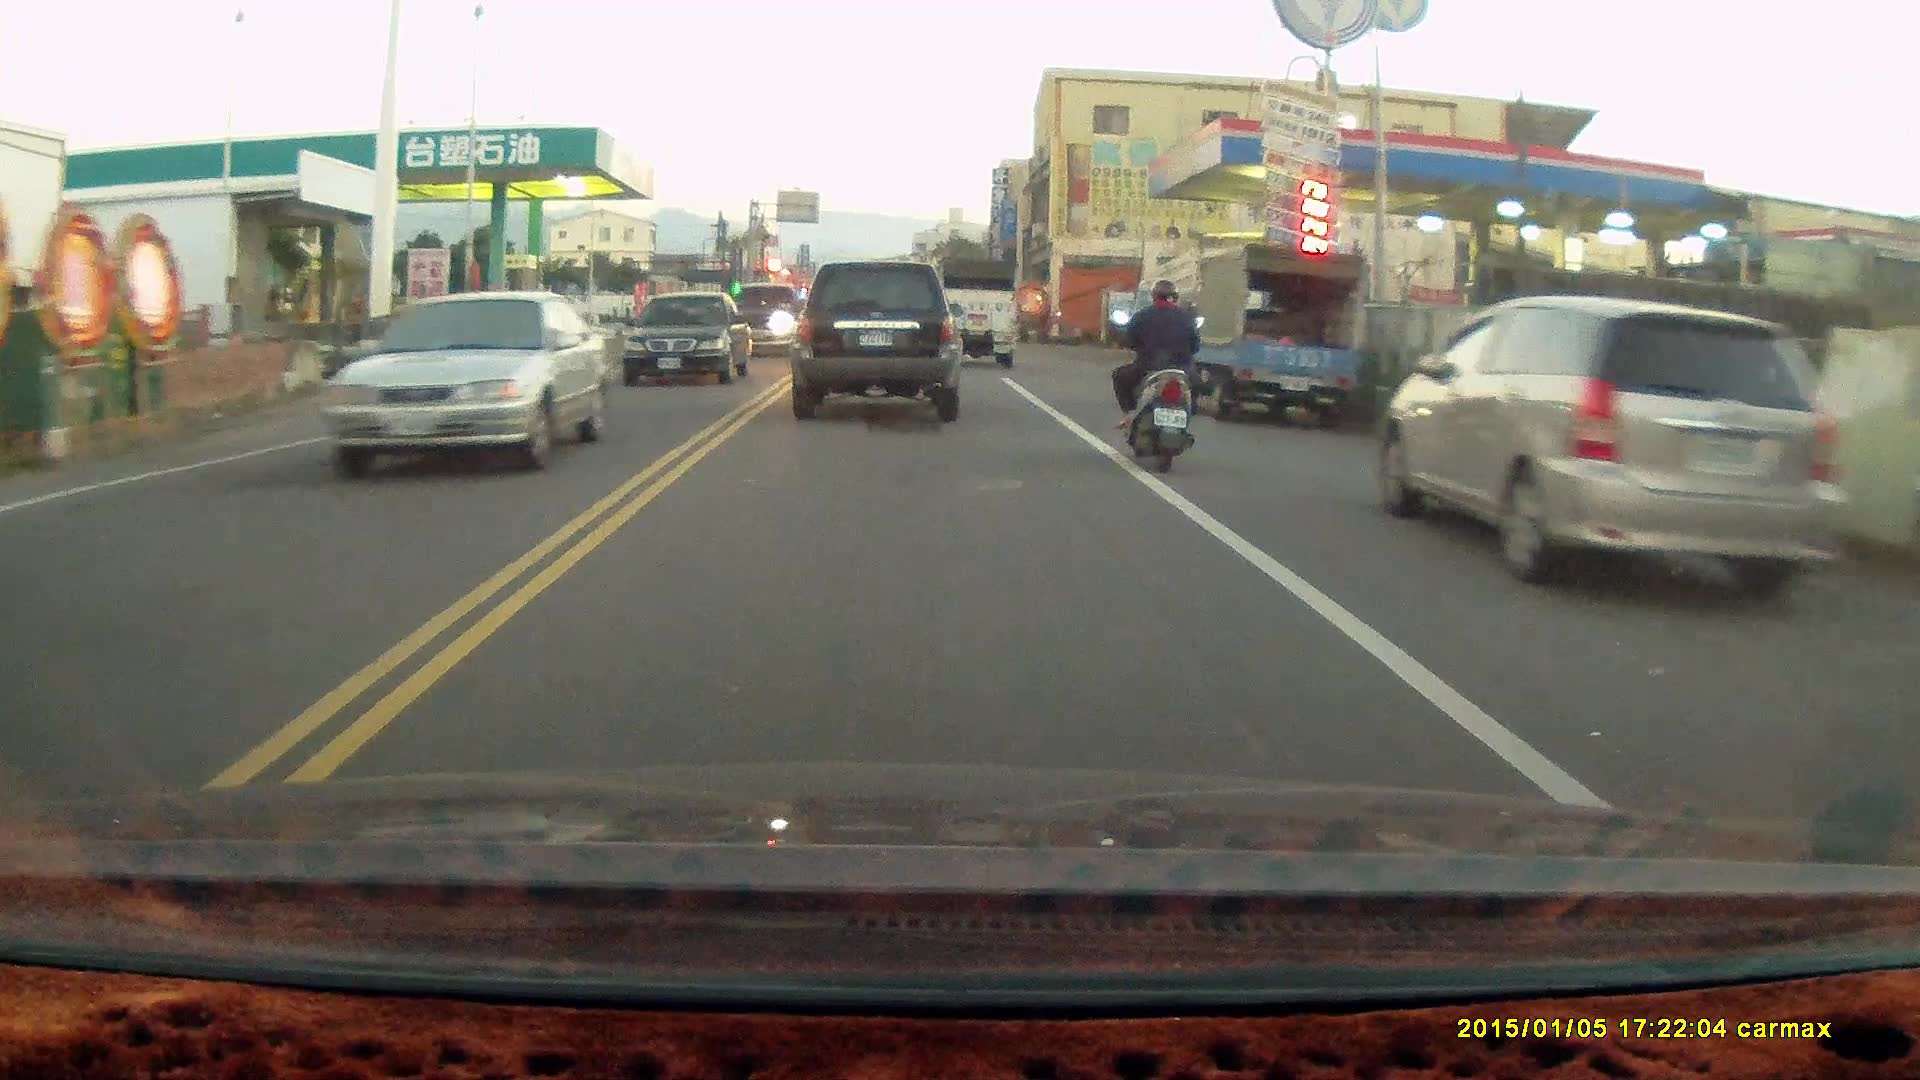rider: (1110, 274, 1211, 470)
vehicle: (1386, 296, 1831, 606), (327, 293, 603, 474), (1172, 247, 1364, 428), (788, 262, 962, 424), (623, 295, 752, 386), (935, 254, 1017, 367)
